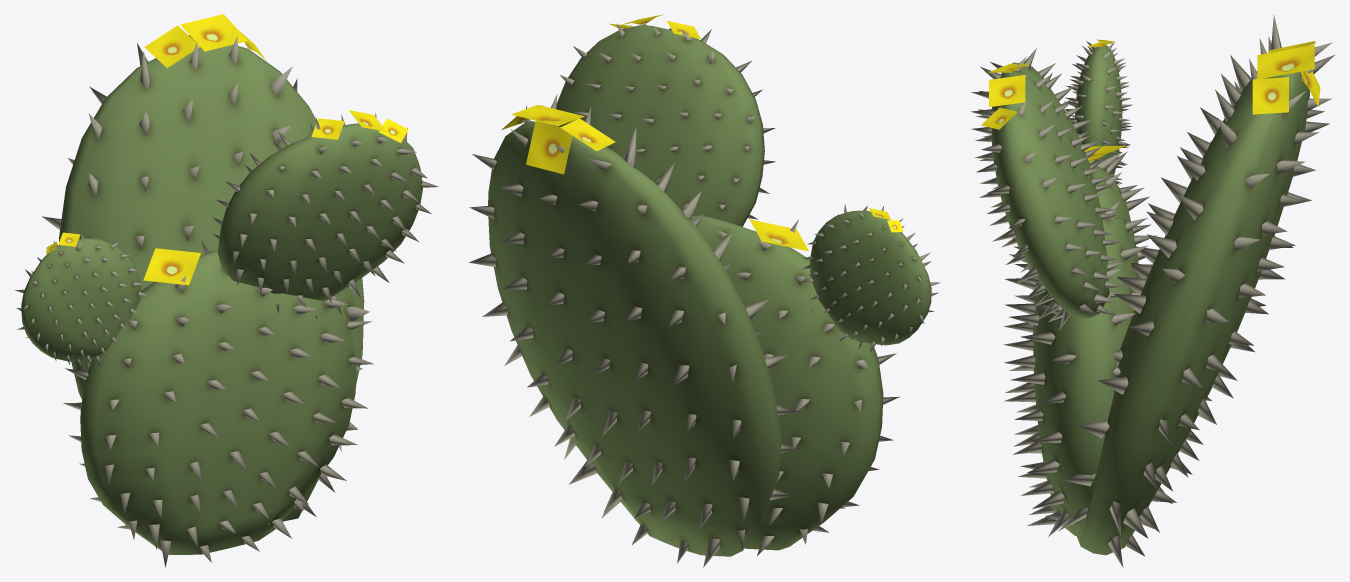
Rendered from sb_obj_nature012_Cactus03b.fbx.
3 renders of one model, left to right at view 1: azimuth 30°, elevation 25°; view 2: azimuth 150°, elevation 25°; view 3: azimuth 270°, elevation 25°, orthographic. The views are drawn at different scales.
Visible parts, largest first — view 1: sb_obj_nature012_Cactus03b; view 2: sb_obj_nature012_Cactus03b; view 3: sb_obj_nature012_Cactus03b.
Boxes of the visible parts, x1,y1,x2,y2 form: sb_obj_nature012_Cactus03b: [14, 14, 438, 567]; sb_obj_nature012_Cactus03b: [468, 14, 940, 567]; sb_obj_nature012_Cactus03b: [971, 15, 1335, 567].
Bounding box in the file's own units: 0.7042 × 0.7804 × 0.5046.
